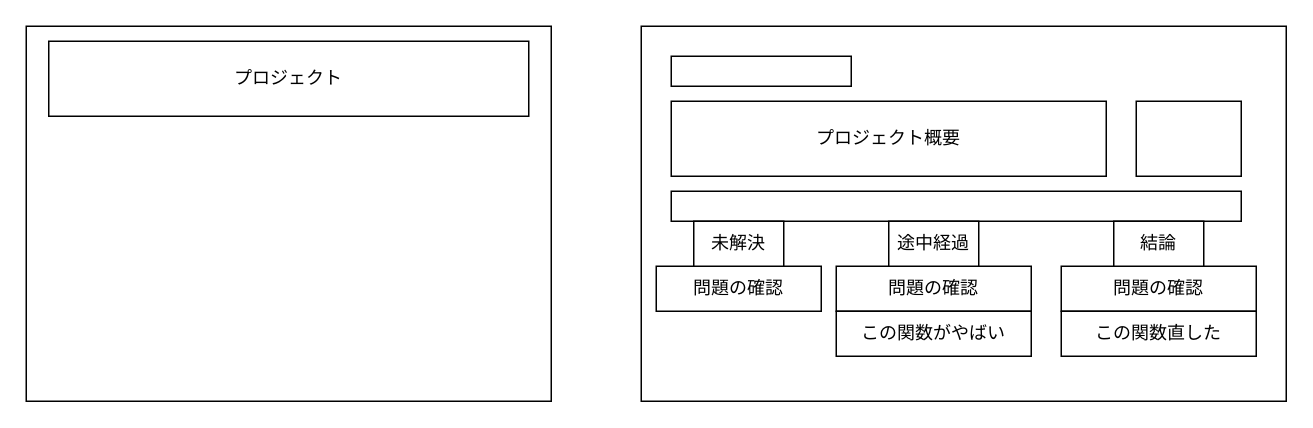
This 1313x428 diagram has some shape labels left out. Here are the shapes that lost their labels. From the top down, the centre of each, then its label:
At point (760, 70): "プロジェクト名".
At point (1188, 138): "url".
